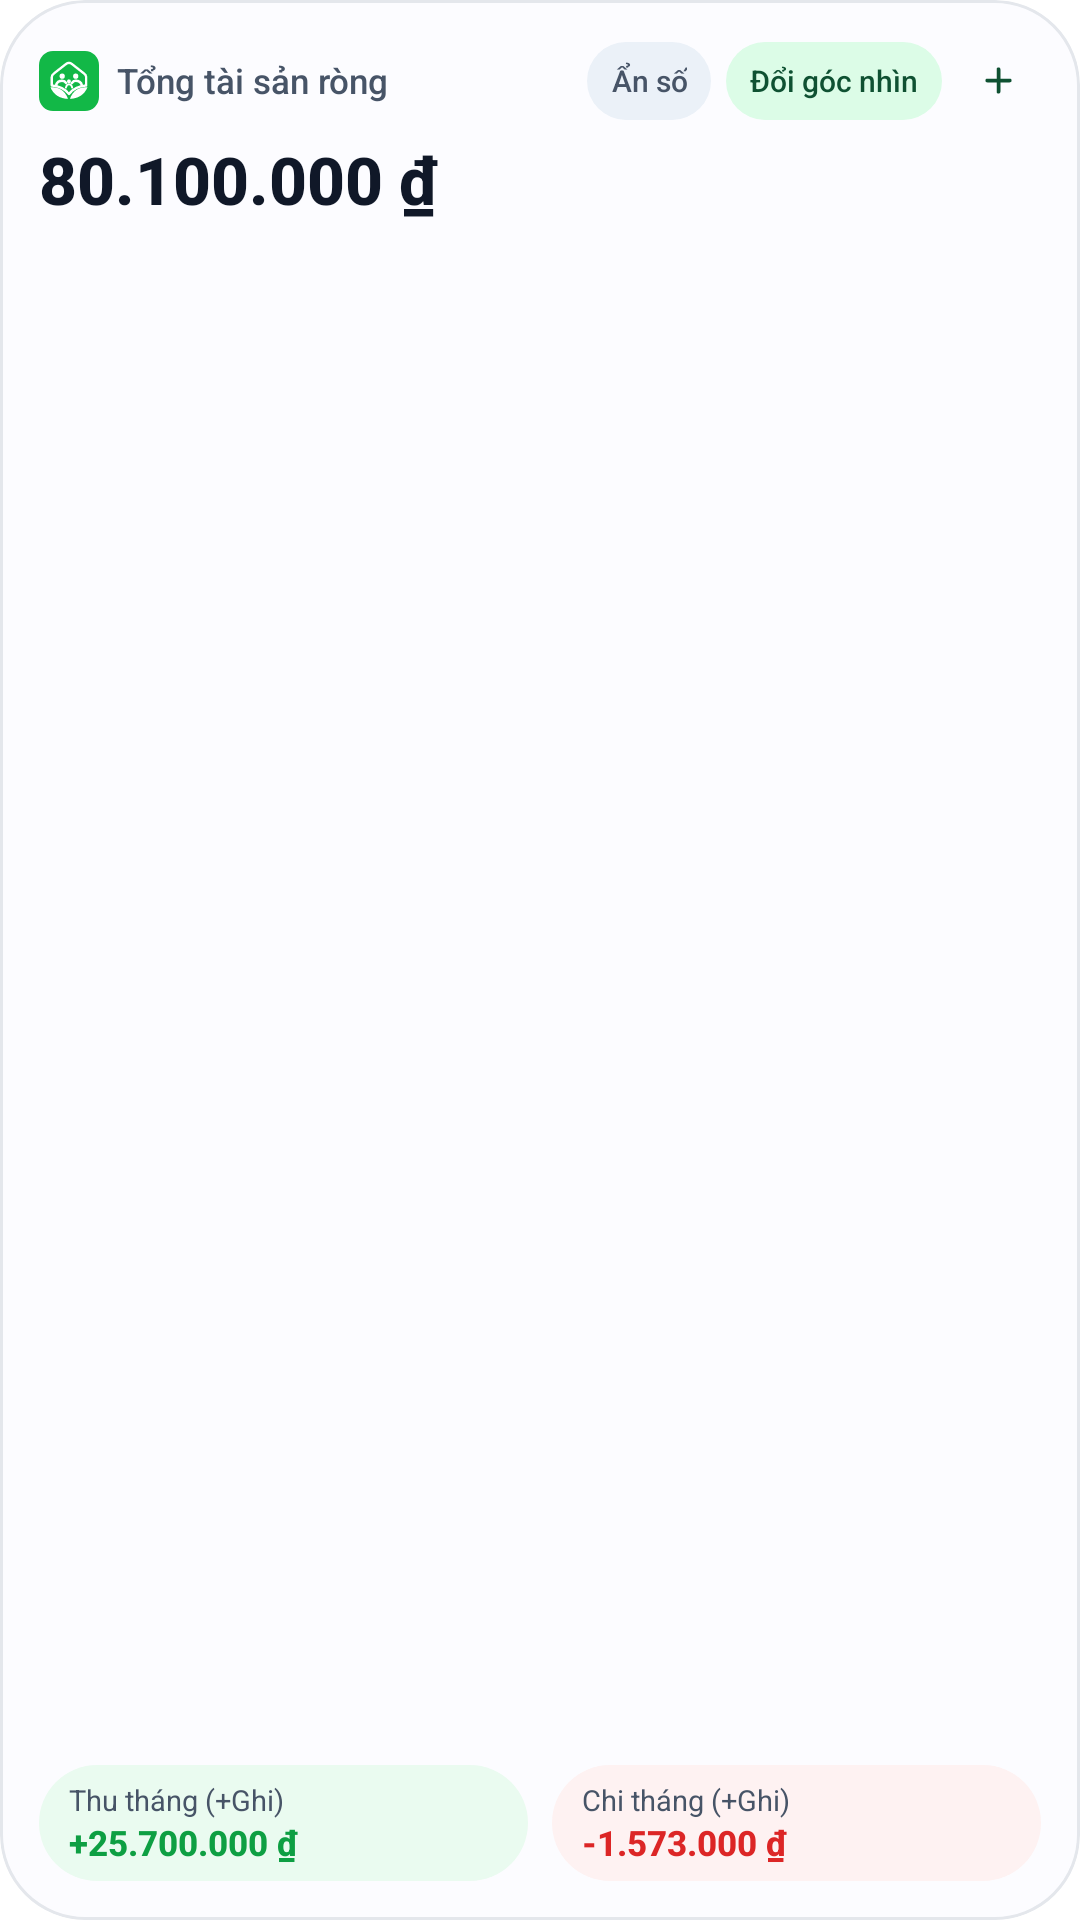

Icons on this 1080 x 1920 Android screen, each with the point to tap as (x,y):
Ghi thu chi nổi ngoài màn hình: (998,80)
